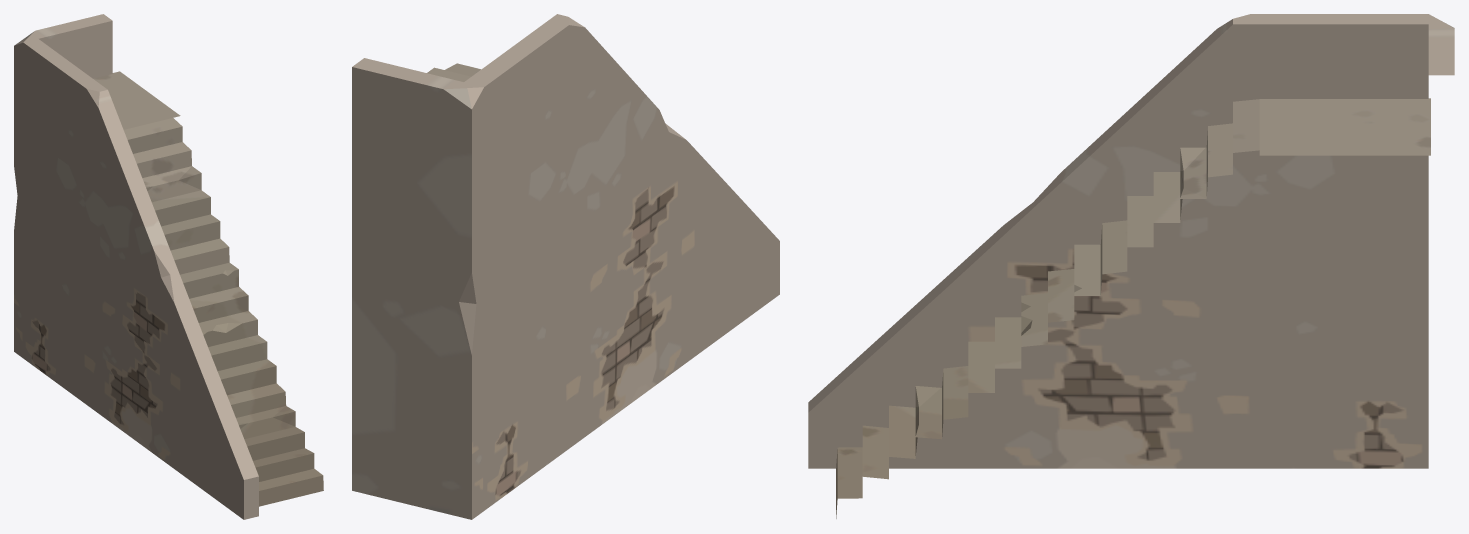
Rendered from SM_Bld_Shop_08_Stairs.glb.
3 renders of one model, left to right at view 1: azimuth 30°, elevation 25°; view 2: azimuth 150°, elevation 25°; view 3: azimuth 270°, elevation 25°, orthographic. The views are drawn at different scales.
Parts seen in each view (by area): view 1: SM_Bld_Shop_08_Stairs; view 2: SM_Bld_Shop_08_Stairs; view 3: SM_Bld_Shop_08_Stairs.
Boxes of the visible parts, <box> form: SM_Bld_Shop_08_Stairs: <box>14,14,323,519</box>; SM_Bld_Shop_08_Stairs: <box>352,14,779,519</box>; SM_Bld_Shop_08_Stairs: <box>808,14,1454,518</box>.
Bounding box in the file's own units: 1.61 × 5 × 6.59.
Materials: 1 (1 with a texture image).
